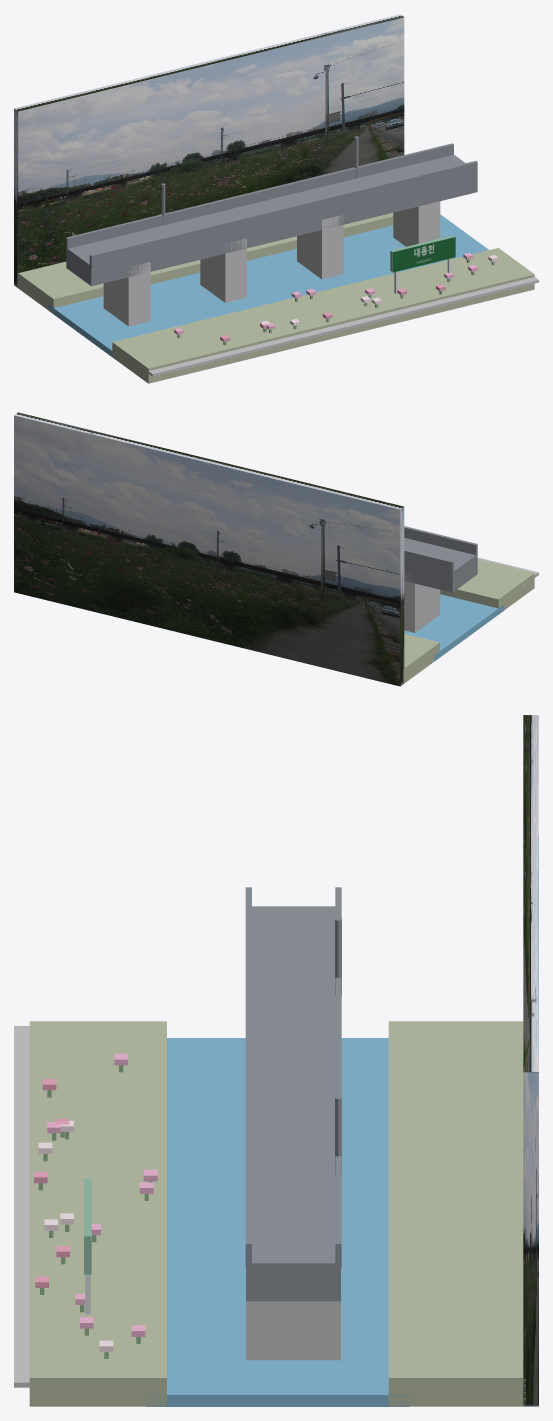
File: building.glb
3 views of the same model, one above another, from view 1: azimuth 30°, elevation 25°; view 2: azimuth 150°, elevation 25°; view 3: azimuth 270°, elevation 25° (orthographic). The views are drawn at different scales.
Bounding box in the file's own units: 16 × 7 × 9.95.
Materials: 12 (2 with a texture image).
